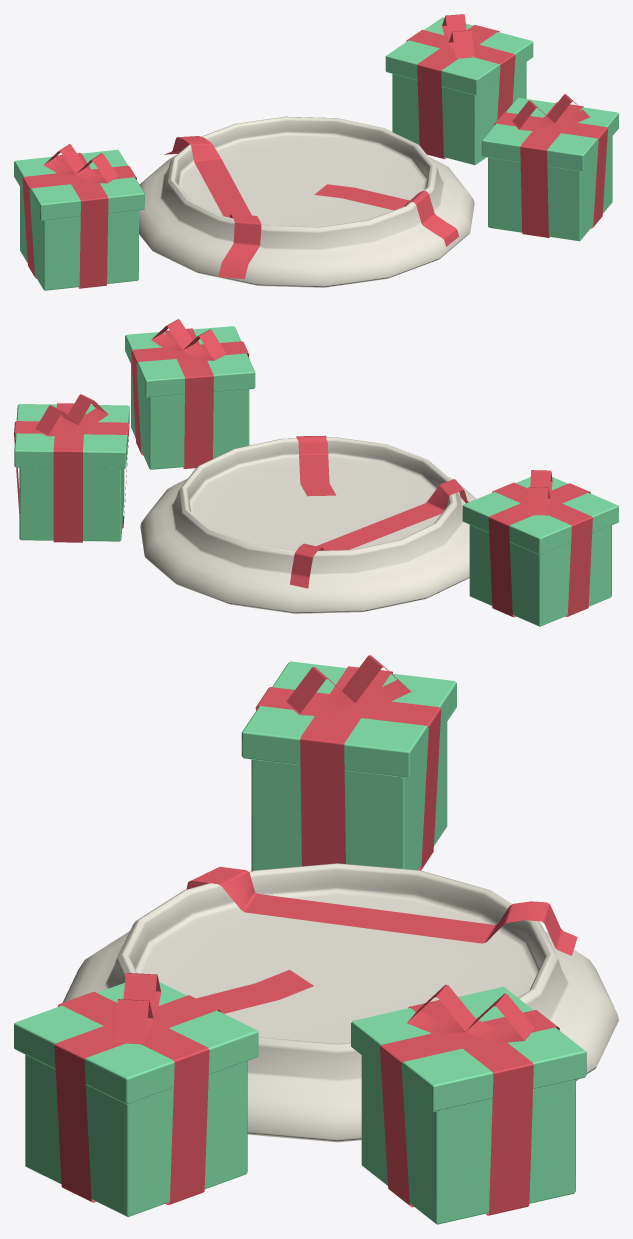
The model's file is gift_Platform001.fbx.
3 views of the same model, one above another, from view 1: azimuth 30°, elevation 25°; view 2: azimuth 150°, elevation 25°; view 3: azimuth 270°, elevation 25° (orthographic). The views are drawn at different scales.
Parts seen in each view (by area): view 1: Box; view 2: Box; view 3: Box.
Boxes of the visible parts, box(x1,y1,x2,y2) form: Box: box(14, 14, 618, 290); Box: box(14, 319, 618, 626); Box: box(14, 655, 618, 1224).
Size of the model in its own units: 405 by 83.95 by 244.
